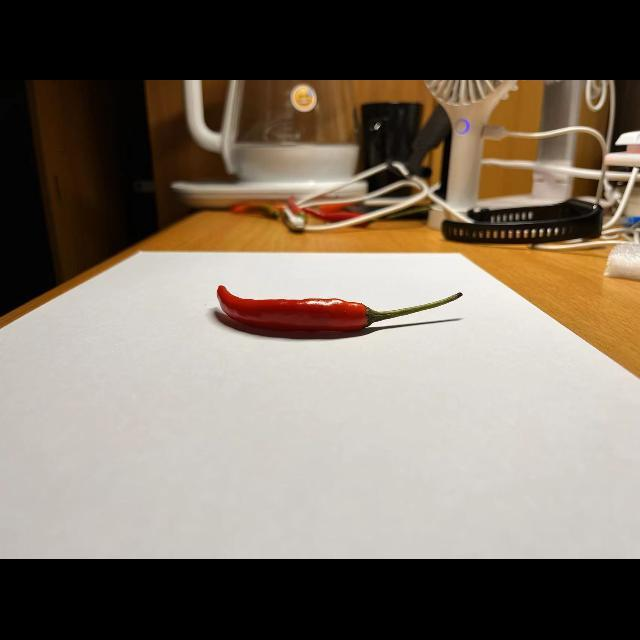chili_pepper: (208, 278, 467, 341)
